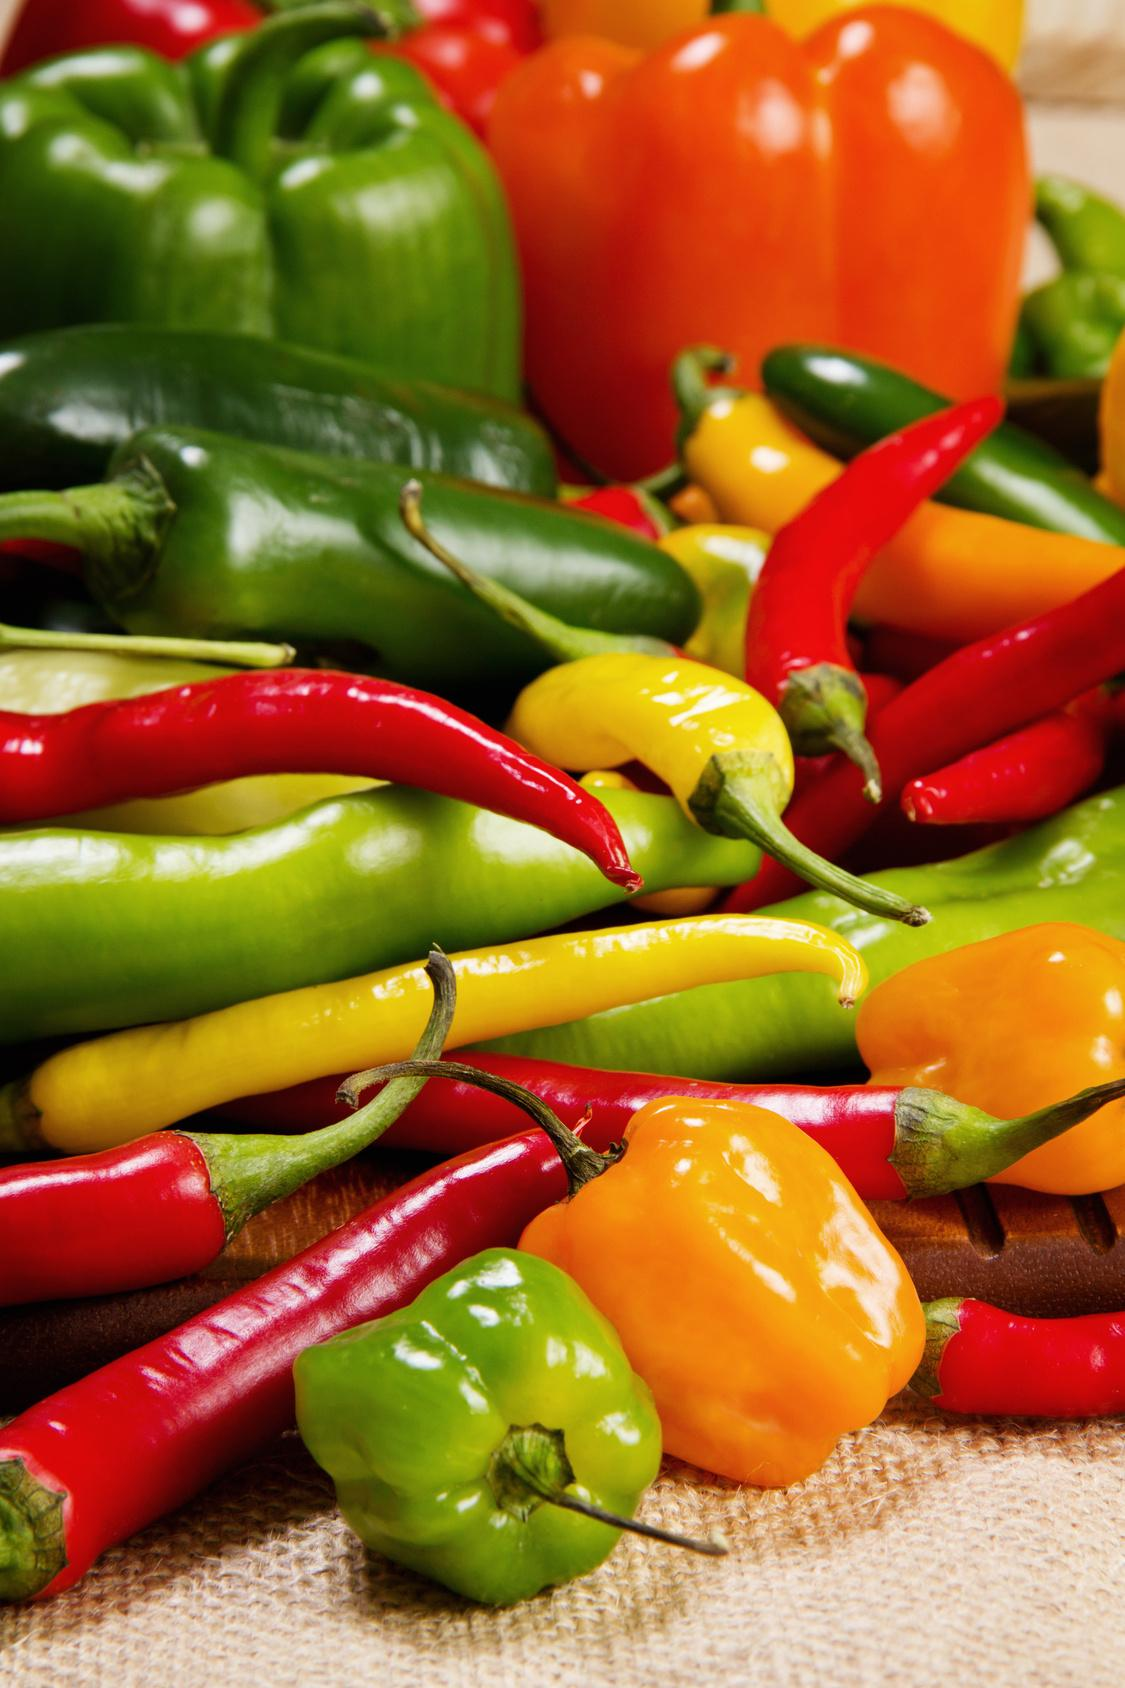capsicum: (3, 4, 1121, 1613), (1, 422, 703, 680), (290, 1244, 727, 1606)
